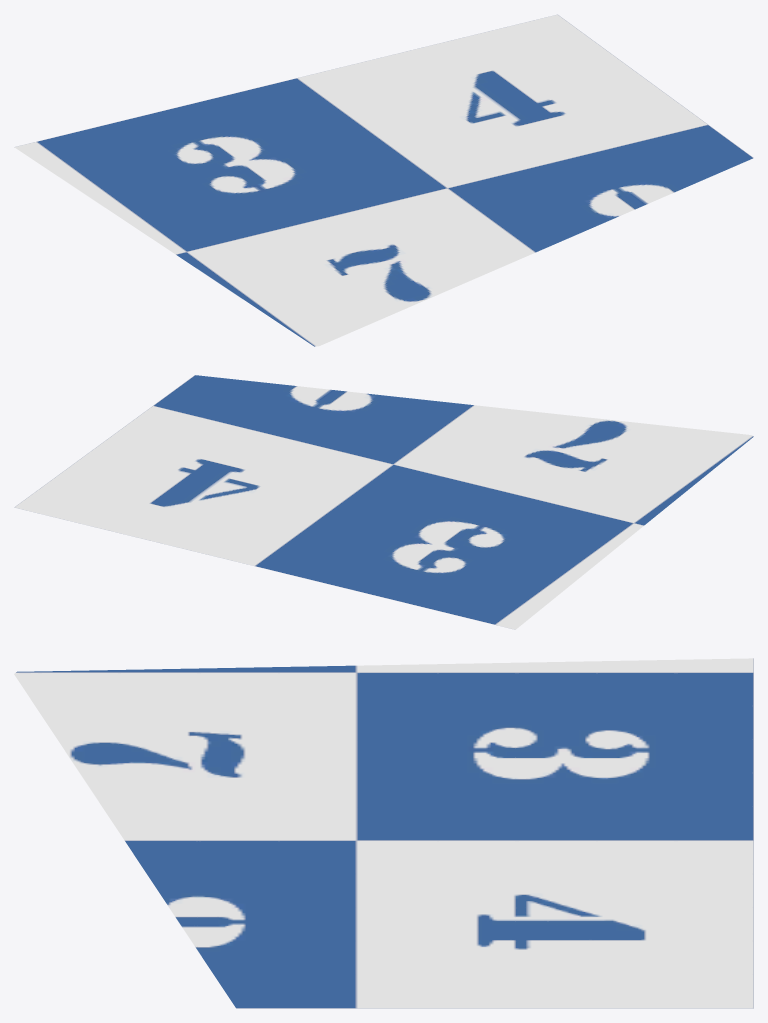
Rendered from Rui_Fragment2.fbx.
The picture shows the model from 3 angles, top to bottom: view 1: azimuth 30°, elevation 25°; view 2: azimuth 150°, elevation 25°; view 3: azimuth 270°, elevation 25°; orthographic projection. The views are drawn at different scales.
Parts seen in each view (by area): view 1: SM_e_Plc_P1007_Fragment002; view 2: SM_e_Plc_P1007_Fragment002; view 3: SM_e_Plc_P1007_Fragment002.
Boxes of the visible parts, box(x1,y1,x2,y2) form: SM_e_Plc_P1007_Fragment002: box(14, 14, 753, 346); SM_e_Plc_P1007_Fragment002: box(14, 375, 753, 629); SM_e_Plc_P1007_Fragment002: box(14, 658, 753, 1008).
Bounding box in the file's own units: 52.13 × 1.03e-14 × 46.55.
